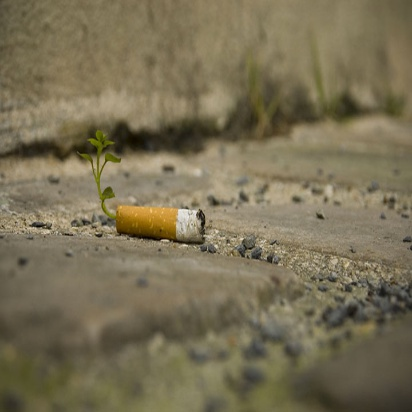cigarette: (109, 198, 208, 252)
